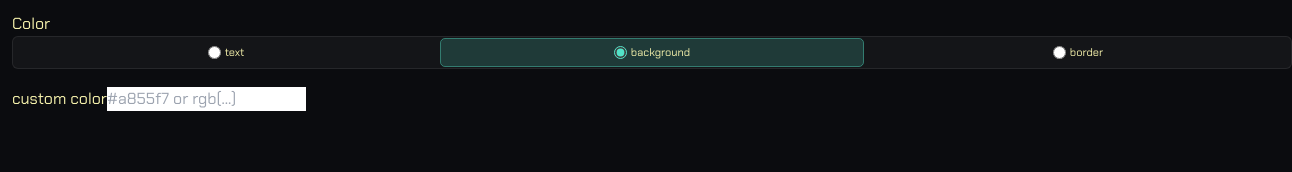
Test: ColorControls › rejects an unsafe custom color and surfaces a panel error
Step 1. Type "url(http://evil)" into the field labelled "custom color" → (206, 98), box top-left (107, 86), bottom-right (306, 110)
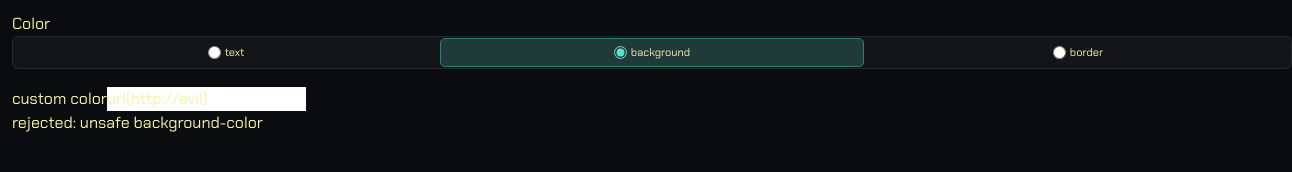
Now the message shows "rejected", box top-left (12, 112), bottom-right (263, 132)
